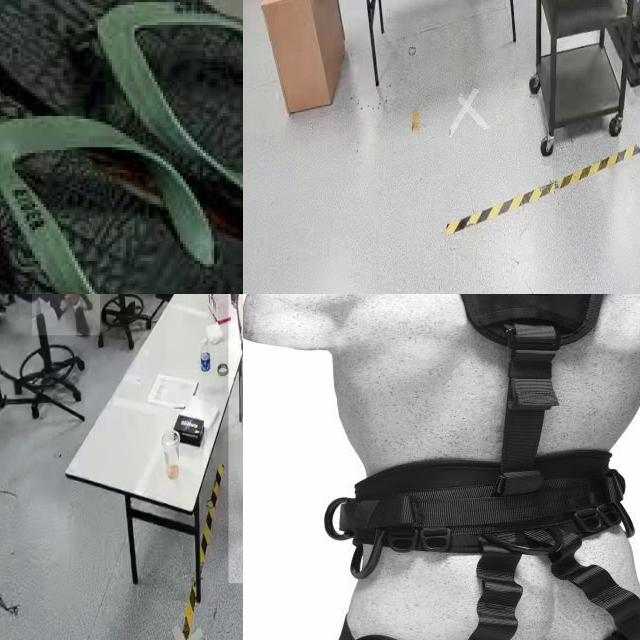Harness: (325, 294, 640, 640)
Sandals: (0, 0, 243, 294)
shoes: (70, 304, 94, 341)
